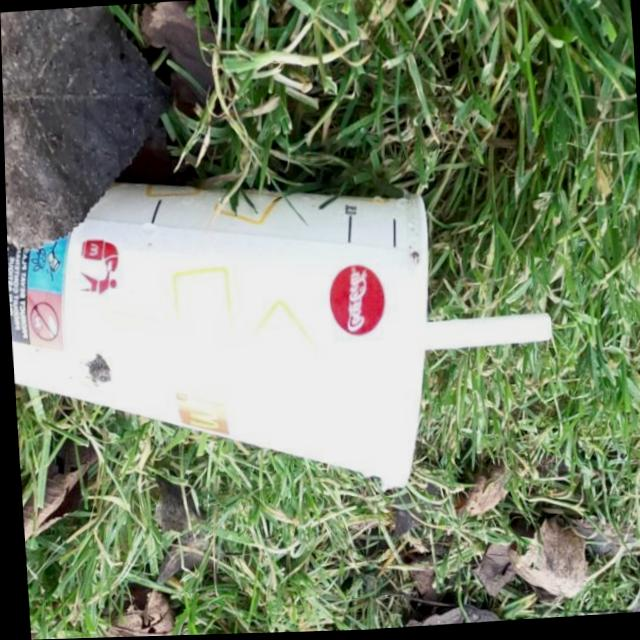Cup: (3, 132, 561, 515)
